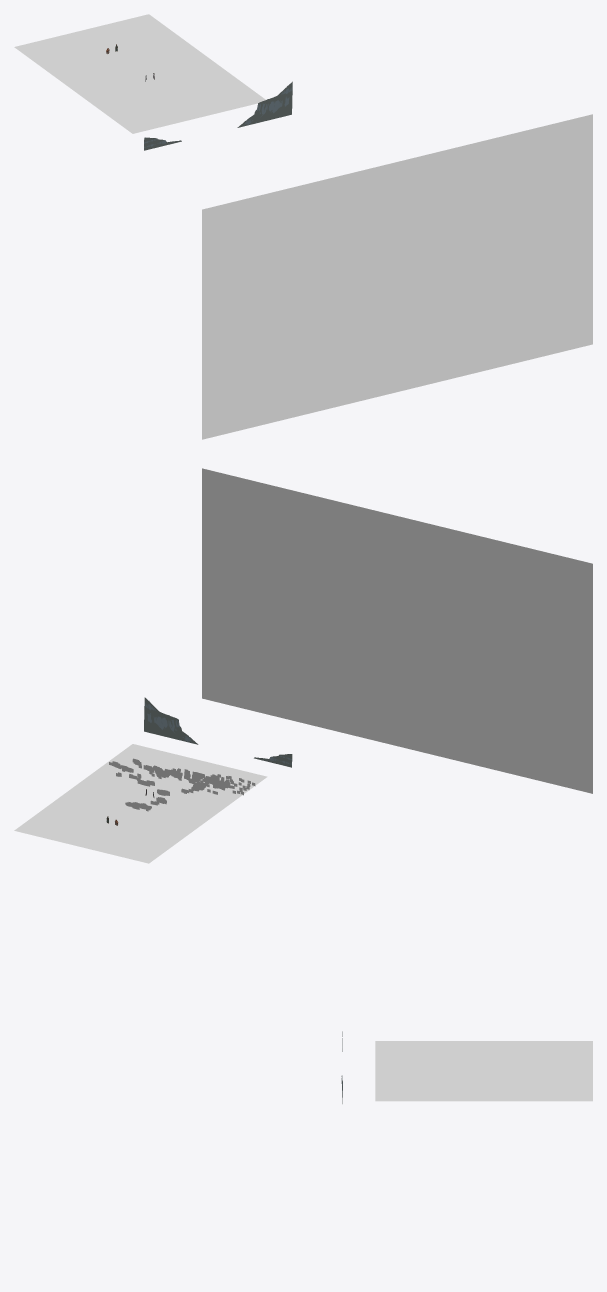
The model's file is Duel_3_water_y.glb.
3 renders of one model, top to bottom at view 1: azimuth 30°, elevation 25°; view 2: azimuth 150°, elevation 25°; view 3: azimuth 270°, elevation 25°, orthographic. The views are drawn at different scales.
Visible parts, largest first — view 1: Sky, Ground, Cliffs; view 2: Sky, Ground, Cliffs; view 3: Ground.
Part boxes in pixels (x1,y1,x2,y2): Sky: (202,114,592,439); Ground: (14,14,265,133); Cliffs: (144,81,292,150); Sky: (202,468,592,793); Ground: (14,744,267,863); Cliffs: (144,697,292,767); Ground: (375,1041,592,1101).
Bounding box in the file's own units: 53.23 × 29.94 × 74.48.
Materials: 8 (5 with a texture image).
